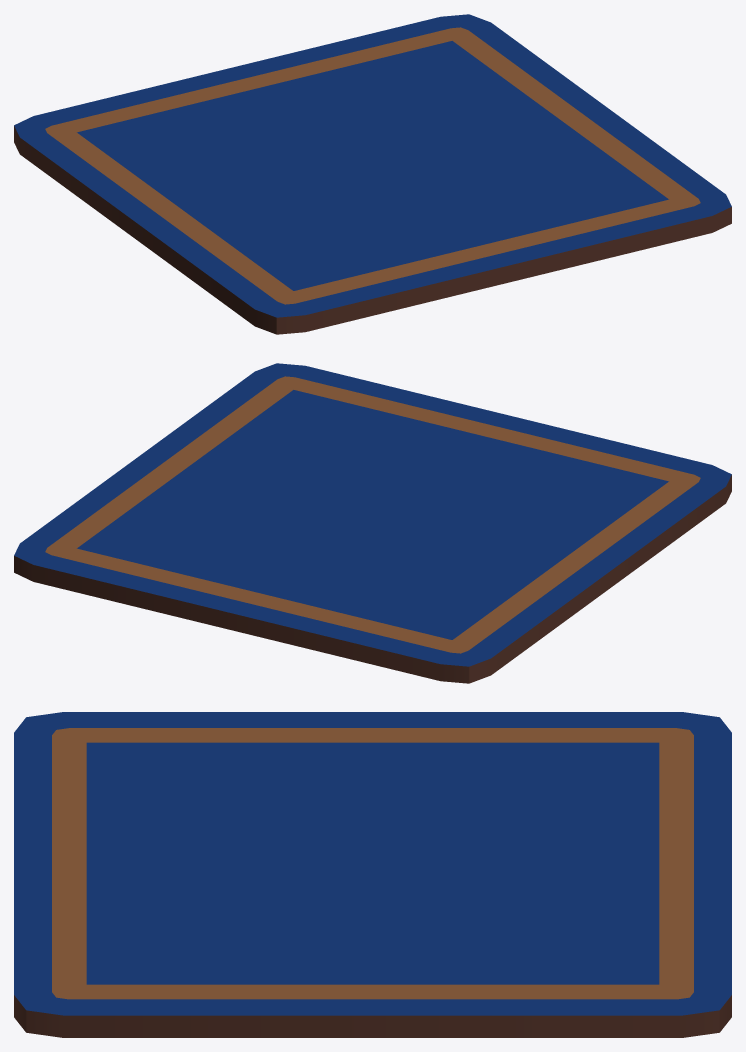
The model's file is MODEL_Coaster.fbx.
3 renders of one model, top to bottom at view 1: azimuth 30°, elevation 25°; view 2: azimuth 150°, elevation 25°; view 3: azimuth 270°, elevation 25°, orthographic. The views are drawn at different scales.
Parts seen in each view (by area): view 1: MESH_Coaster; view 2: MESH_Coaster; view 3: MESH_Coaster.
Boxes of the visible parts, <box> form: MESH_Coaster: <box>14,14,731,334</box>; MESH_Coaster: <box>14,363,731,683</box>; MESH_Coaster: <box>14,712,731,1037</box>.
Bounding box in the file's own units: 49.16 × 1.7 × 49.16.
